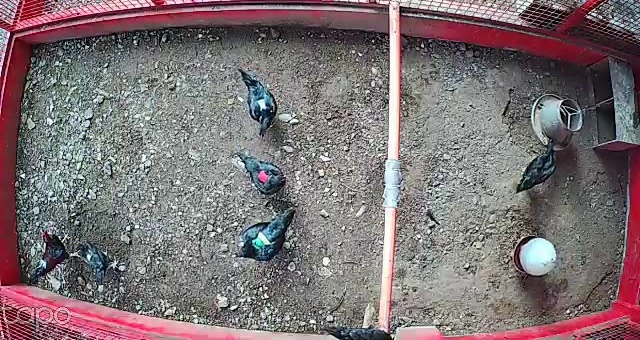Chicken: (230, 207, 295, 262), (238, 69, 279, 136), (237, 150, 288, 197), (78, 241, 122, 279)
Rooster: (29, 226, 85, 284)
Saddle_Color_Red: (258, 171, 270, 183)
Saddle_Color_White: (260, 99, 266, 109)
Saddle_Color_Yellow: (85, 252, 91, 261)
Saddle_Color_YellowGreen: (255, 234, 267, 246)
